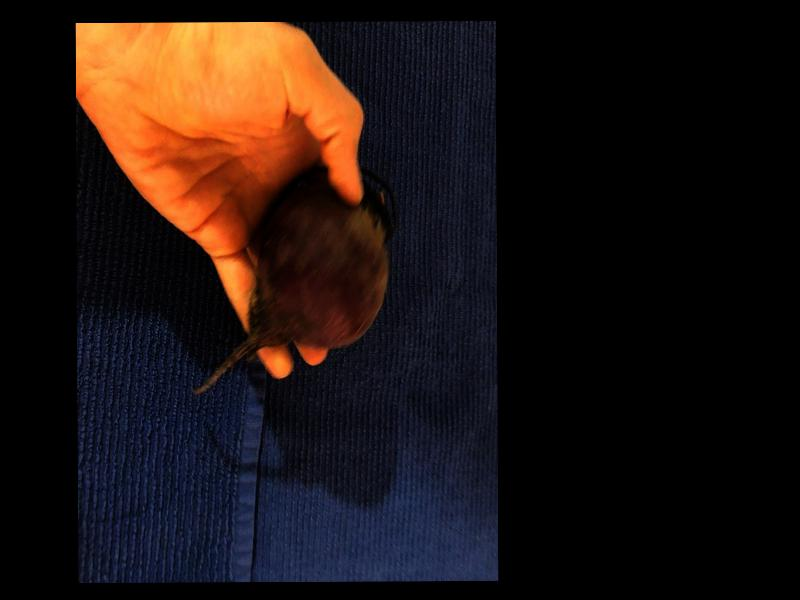Beet: (190, 167, 398, 396)
